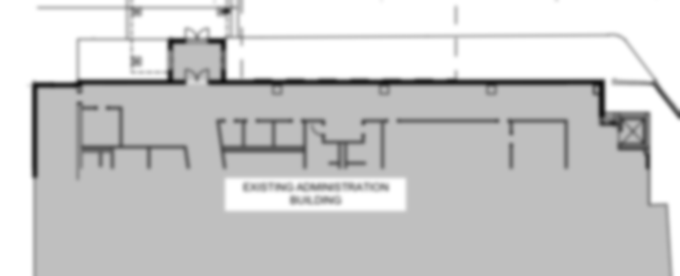double door: (182, 26, 212, 44), (182, 66, 212, 83)
wall: (204, 78, 607, 89), (25, 78, 42, 180), (68, 74, 187, 87), (31, 76, 79, 92), (595, 74, 606, 119)
